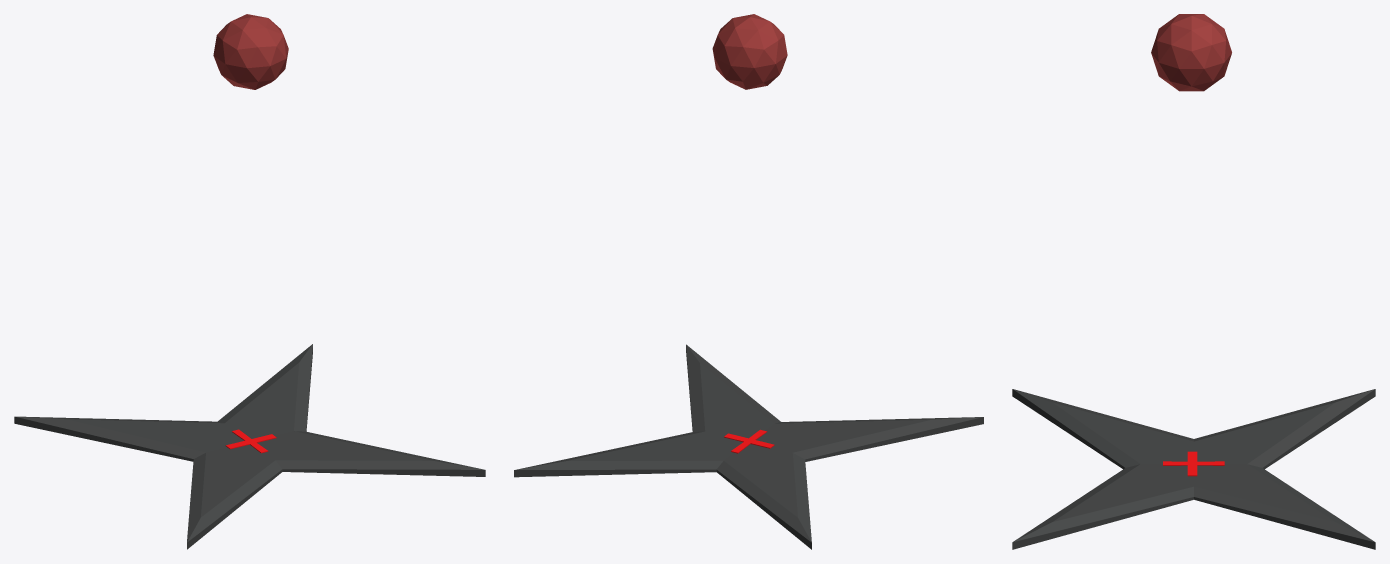
File: Health Reset Object.fbx
3 views of the same model, side by side, from view 1: azimuth 30°, elevation 25°; view 2: azimuth 150°, elevation 25°; view 3: azimuth 270°, elevation 25° (orthographic). The views are drawn at different scales.
Visible parts, largest first — view 1: Cube, Icosphere; view 2: Cube, Icosphere; view 3: Cube, Icosphere, Plane.
Boxes of the visible parts, box(x1,y1,x2,y2) form: Cube: box(14, 344, 485, 549); Icosphere: box(213, 14, 288, 89); Cube: box(514, 344, 983, 549); Icosphere: box(712, 14, 787, 89); Cube: box(1012, 389, 1375, 549); Icosphere: box(1151, 14, 1231, 91); Plane: box(1163, 451, 1224, 476).
Bounding box in the file's own units: 257 × 356 × 257.
